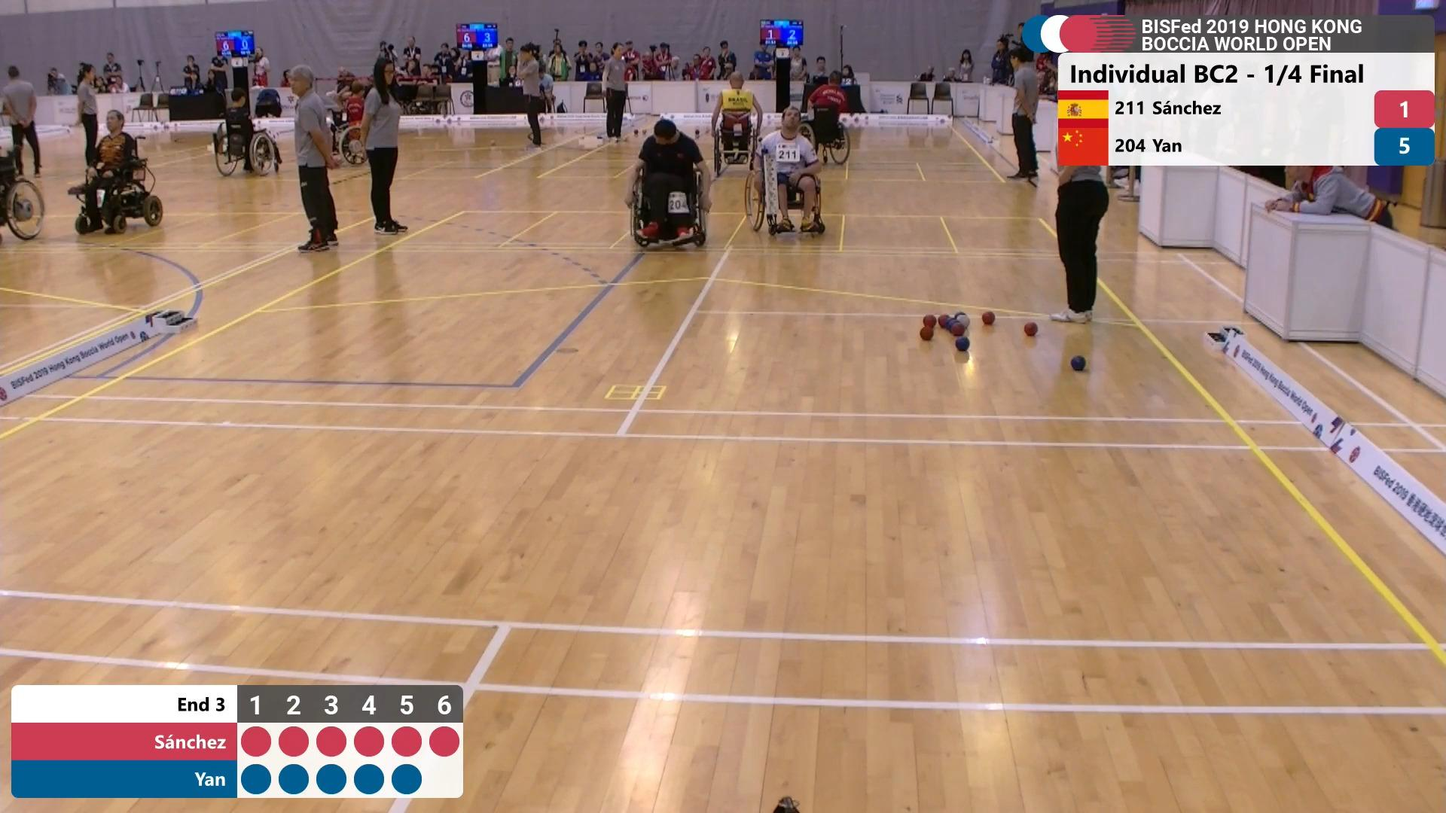blue_ball: (1069, 352, 1089, 373), (954, 336, 972, 353)
red_ball: (918, 325, 937, 343), (920, 313, 938, 330), (1023, 320, 1039, 338), (981, 310, 997, 327), (951, 322, 967, 336), (938, 313, 952, 329)
white_ball: (955, 314, 972, 328)
